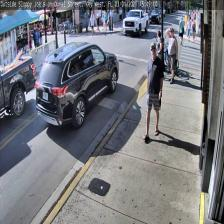person: (143, 42, 163, 139)
